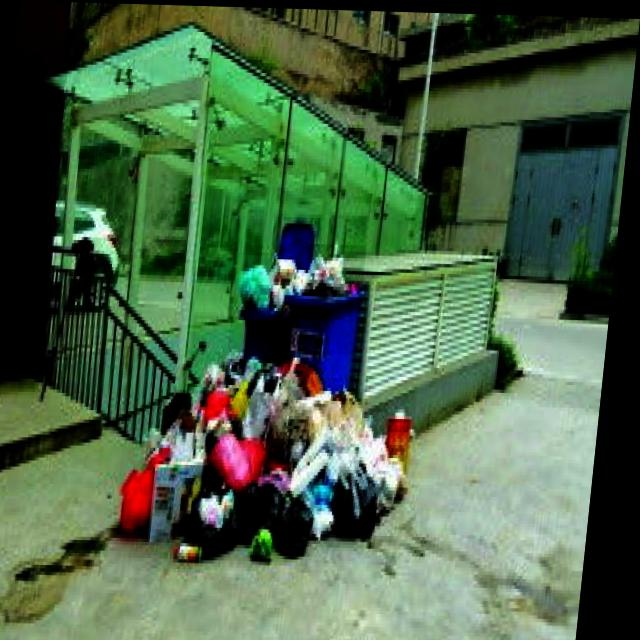garbage: (123, 348, 428, 563)
overflow: (282, 241, 372, 386), (234, 250, 302, 362)
